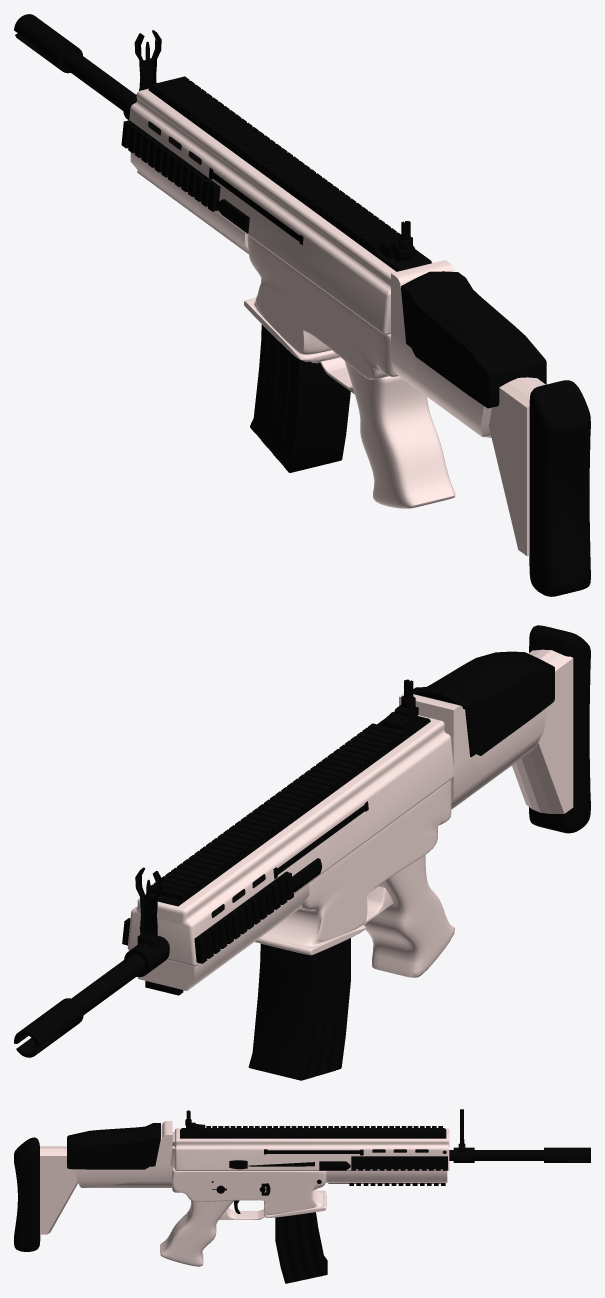
File: fn-scar.fbx
3 views of the same model, one above another, from view 1: azimuth 30°, elevation 25°; view 2: azimuth 150°, elevation 25°; view 3: azimuth 270°, elevation 25° (orthographic). The views are drawn at different scales.
Parts seen in each view (by area): view 1: Cube.010; view 2: Cube.010; view 3: Cube.010.
Part boxes in pixels (x1,y1,x2,y2): Cube.010: (14,14,590,596); Cube.010: (14,625,590,1080); Cube.010: (14,1109,590,1283).
Bounding box in the file's own units: 0.6203 × 2.29 × 7.23.
